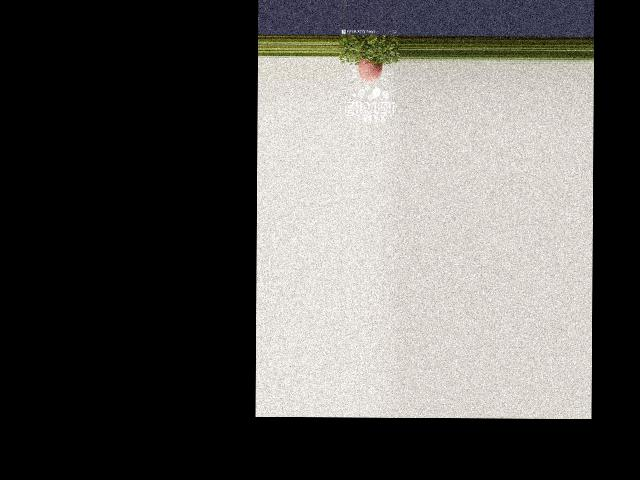egg: (358, 59, 383, 83)
